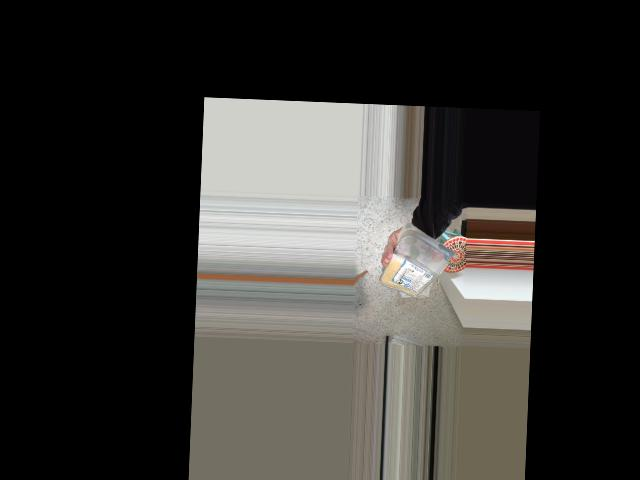cheese: (388, 227, 456, 304)
